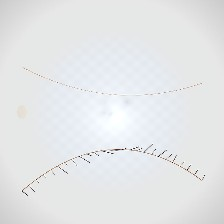foreign_body_visible: (125, 127, 157, 153)
